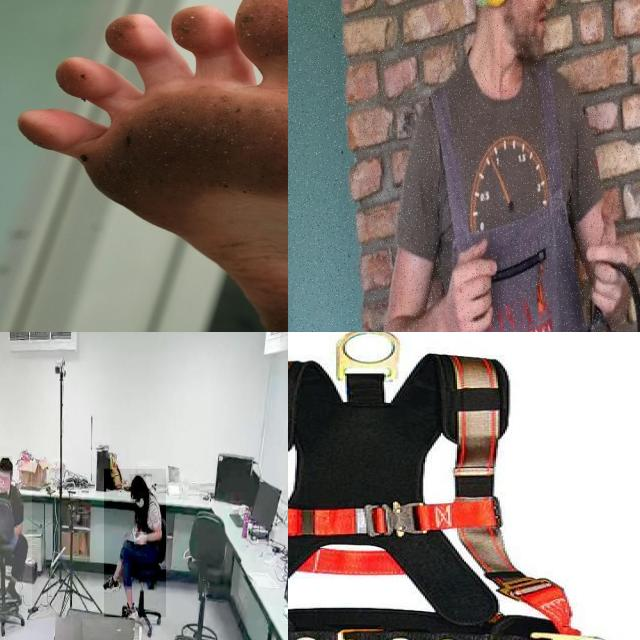Barefoots: (17, 0, 288, 332)
Ear-protection: (580, 279, 640, 332)
Harness: (288, 333, 594, 640)
face_nomask: (0, 472, 10, 491)
hand_noglove: (134, 532, 147, 545)
head_nohelmet: (130, 474, 146, 491), (0, 456, 12, 471)
person: (104, 469, 166, 618), (0, 460, 32, 620)
shoes: (4, 577, 24, 611), (102, 572, 122, 596)
